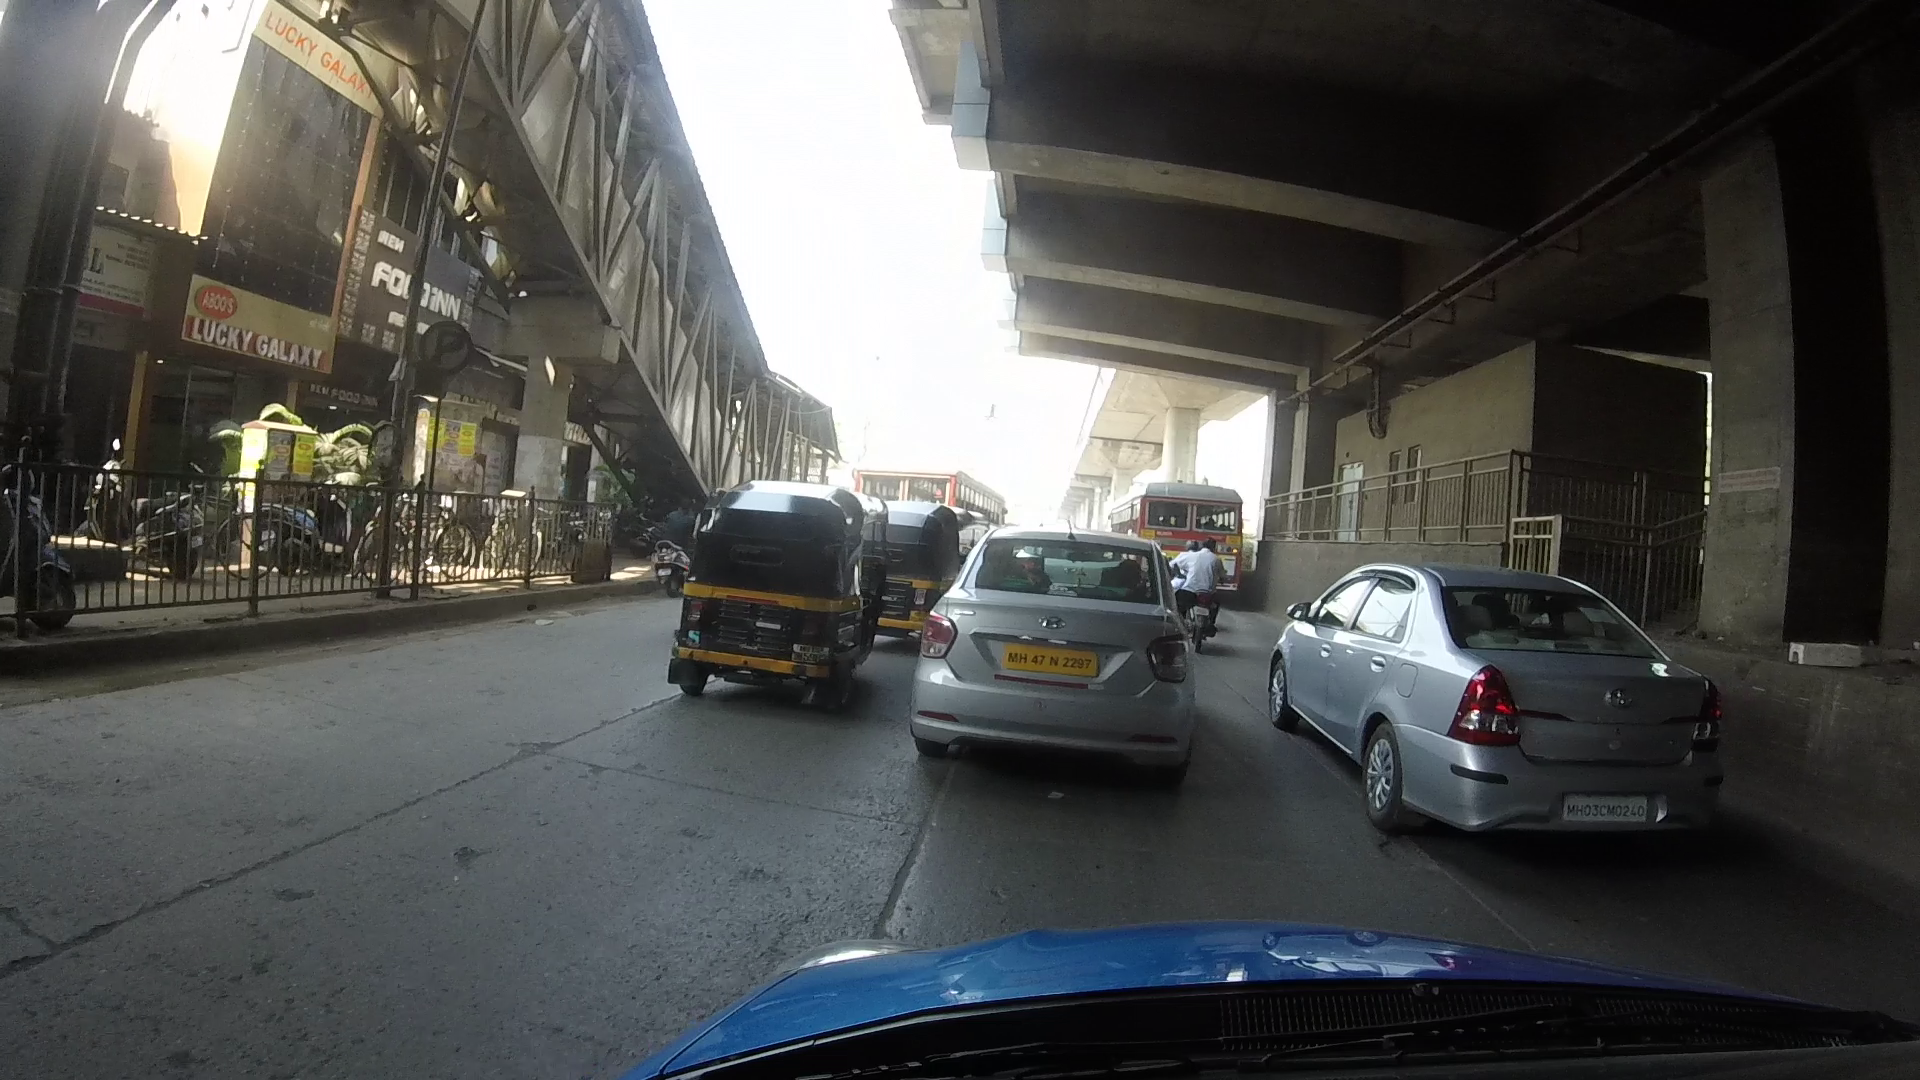car: (1266, 551, 1708, 836), (924, 524, 1203, 777)
rickshaw: (661, 483, 881, 695), (855, 501, 969, 642)
